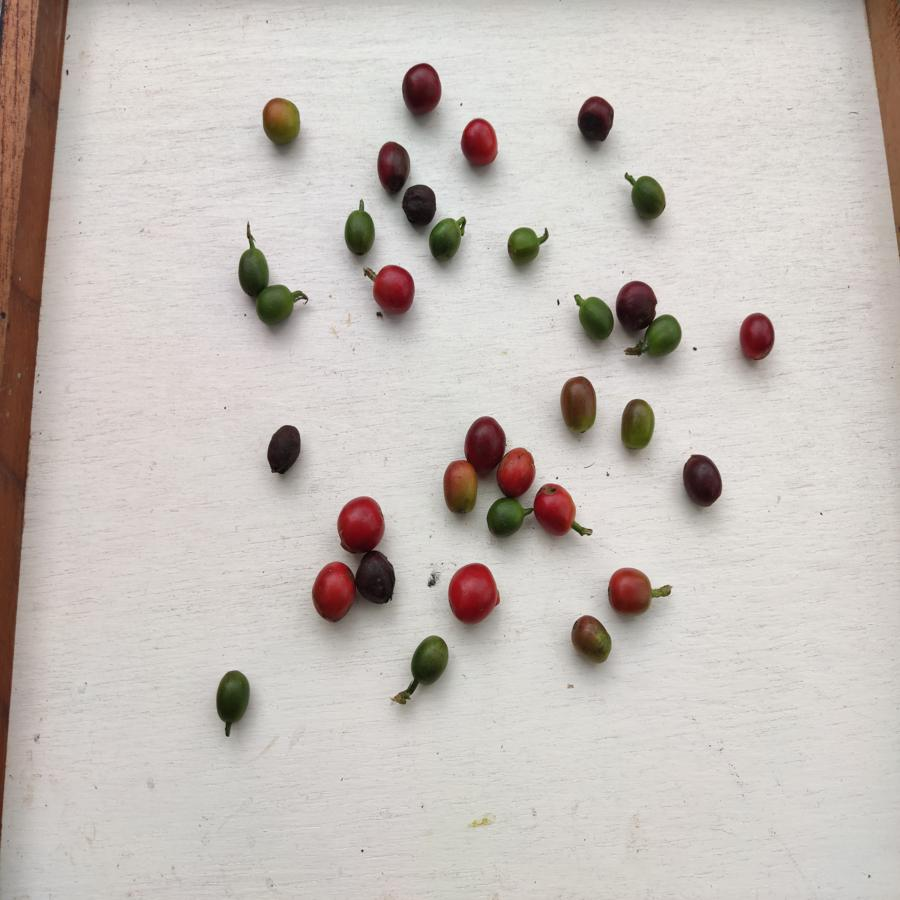Inmaduro: (214, 669, 251, 726), (625, 172, 667, 221), (411, 635, 451, 684), (646, 314, 686, 359), (429, 216, 468, 261), (342, 207, 376, 257), (256, 281, 294, 325), (236, 245, 269, 295), (576, 296, 614, 339), (487, 496, 526, 535), (504, 225, 542, 264)
Maduro: (447, 564, 501, 626), (310, 559, 356, 622), (336, 497, 387, 551), (532, 481, 580, 538), (607, 565, 655, 616), (373, 266, 417, 317), (459, 116, 500, 169), (740, 314, 776, 365), (498, 449, 536, 496)
Pinton: (567, 614, 617, 664), (618, 396, 661, 454), (560, 377, 601, 436), (442, 460, 479, 519), (261, 96, 303, 146)
Sobremaduro: (680, 454, 725, 509), (354, 552, 398, 605), (401, 61, 444, 114), (616, 276, 656, 328), (466, 416, 502, 471), (377, 138, 410, 194), (576, 96, 616, 142), (266, 425, 302, 476), (401, 184, 438, 226)
